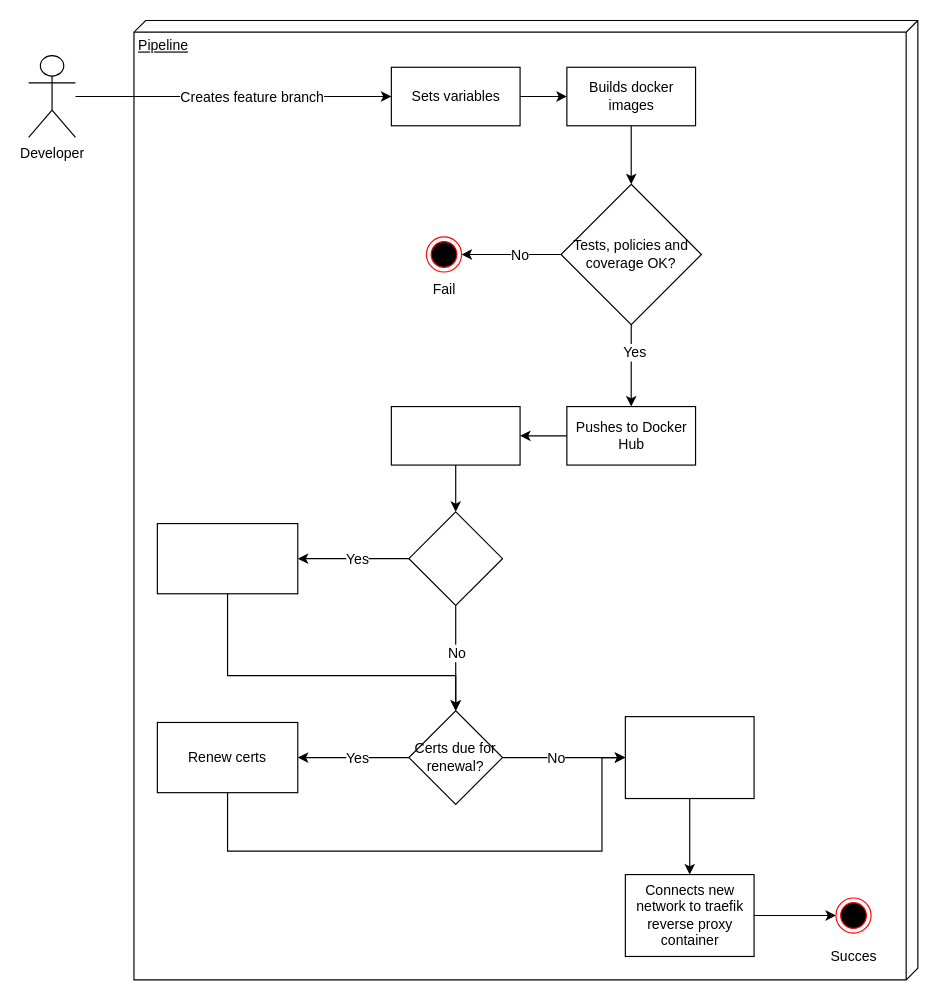
Some shapes in this 938 by 1000 pixel diagram are drawn without their labels. Here are the shapes that lost their labels. From the top down, the centre of each, then its label:
At (455,435): "Pulls images on Server".
At (227,558): "Rebuild traefik".
At (455,558): "Traefik updated?".
At (689,757): "Builds and starts containers using pipeline variables".
